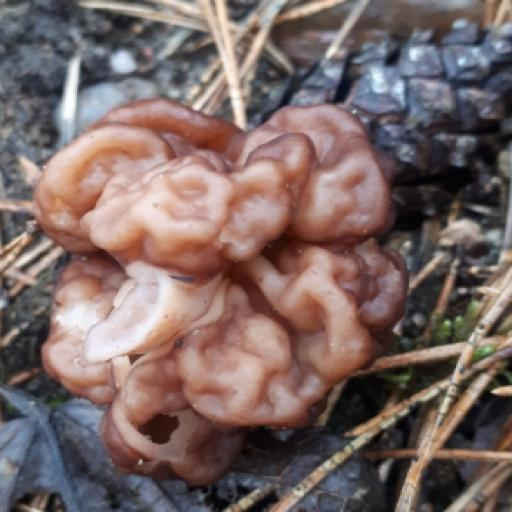mushroom: (153, 181, 433, 479), (24, 79, 325, 300), (73, 230, 227, 399)
